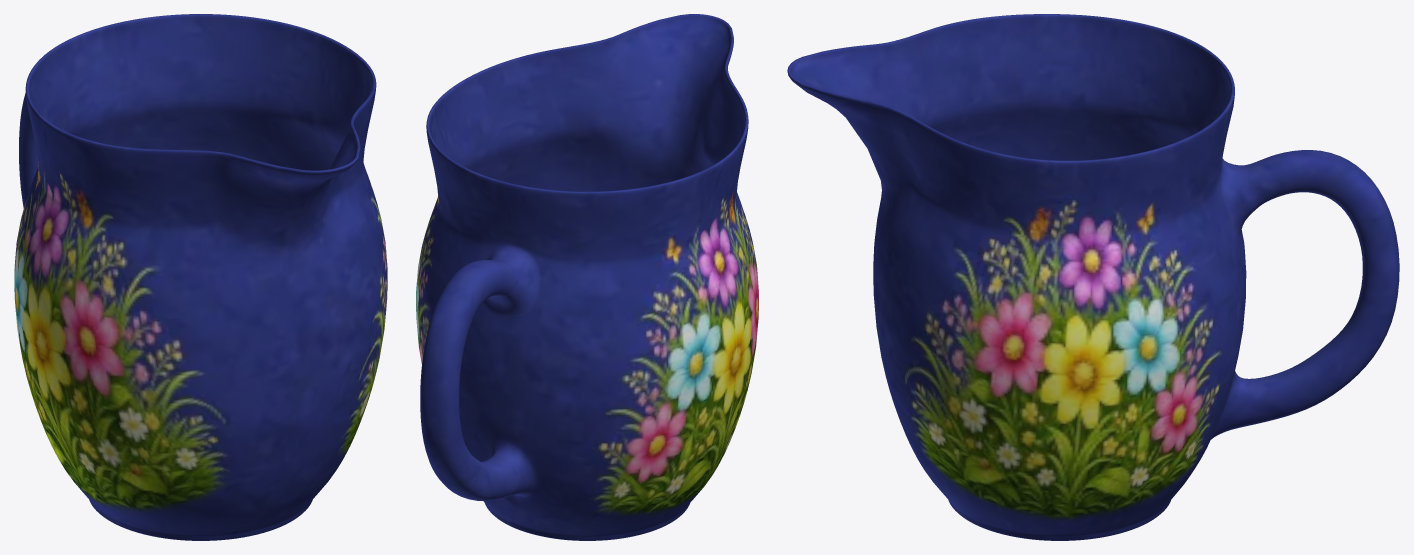
Rendered from SR-kitchenware_jug_a01.glb.
3 views of the same model, side by side, from view 1: azimuth 30°, elevation 25°; view 2: azimuth 150°, elevation 25°; view 3: azimuth 270°, elevation 25° (orthographic). The views are drawn at different scales.
Parts seen in each view (by area): view 1: sm_kitchenware_jug_a01_mesh_00.001; view 2: sm_kitchenware_jug_a01_mesh_00.001; view 3: sm_kitchenware_jug_a01_mesh_00.001.
Boxes of the visible parts, bbox=[...] form: sm_kitchenware_jug_a01_mesh_00.001: bbox=[14, 14, 387, 540]; sm_kitchenware_jug_a01_mesh_00.001: bbox=[416, 14, 758, 540]; sm_kitchenware_jug_a01_mesh_00.001: bbox=[787, 14, 1399, 540].
Bounding box in the file's own units: 0.1002 × 0.1259 × 0.1645.
Materials: 1 (1 with a texture image).
